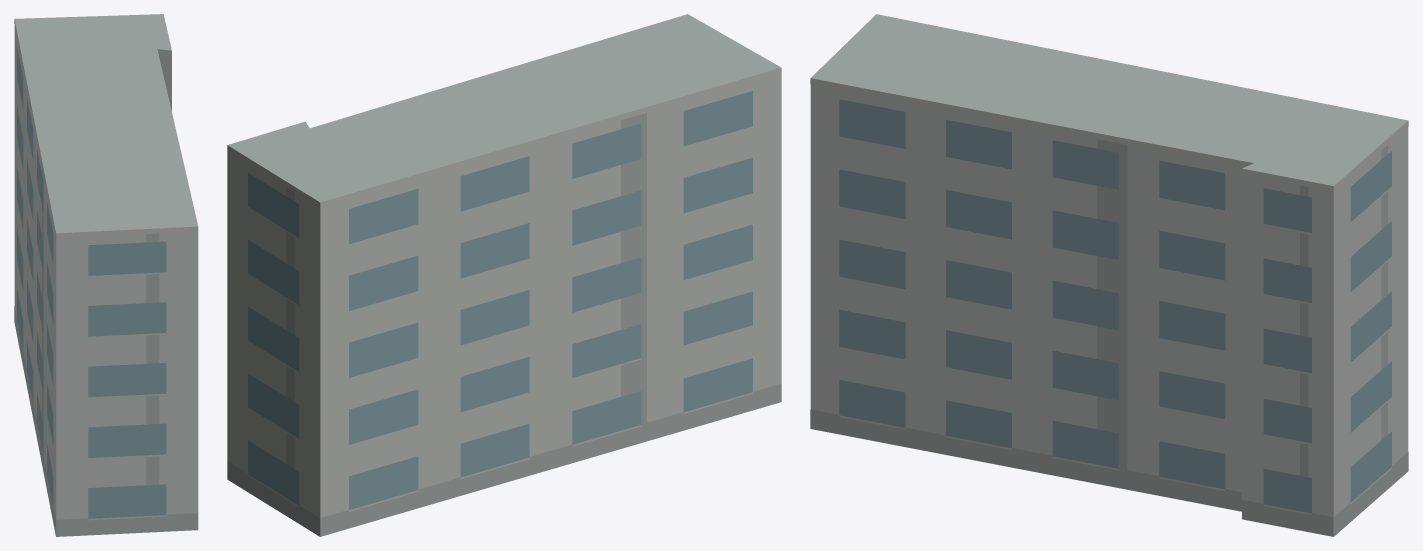
The model's file is survey-upis-32727873.glb.
3 views of the same model, side by side, from view 1: azimuth 30°, elevation 25°; view 2: azimuth 150°, elevation 25°; view 3: azimuth 270°, elevation 25° (orthographic). The views are drawn at different scales.
Parts seen in each view (by area): view 1: survey-upis-32727873.tmp; view 2: survey-upis-32727873.tmp; view 3: survey-upis-32727873.tmp.
Boxes of the visible parts, <box> form: survey-upis-32727873.tmp: <box>14,14,198,536</box>; survey-upis-32727873.tmp: <box>227,14,781,536</box>; survey-upis-32727873.tmp: <box>810,14,1408,536</box>.
Bounding box in the file's own units: 14.85 × 14.1 × 21.8.
